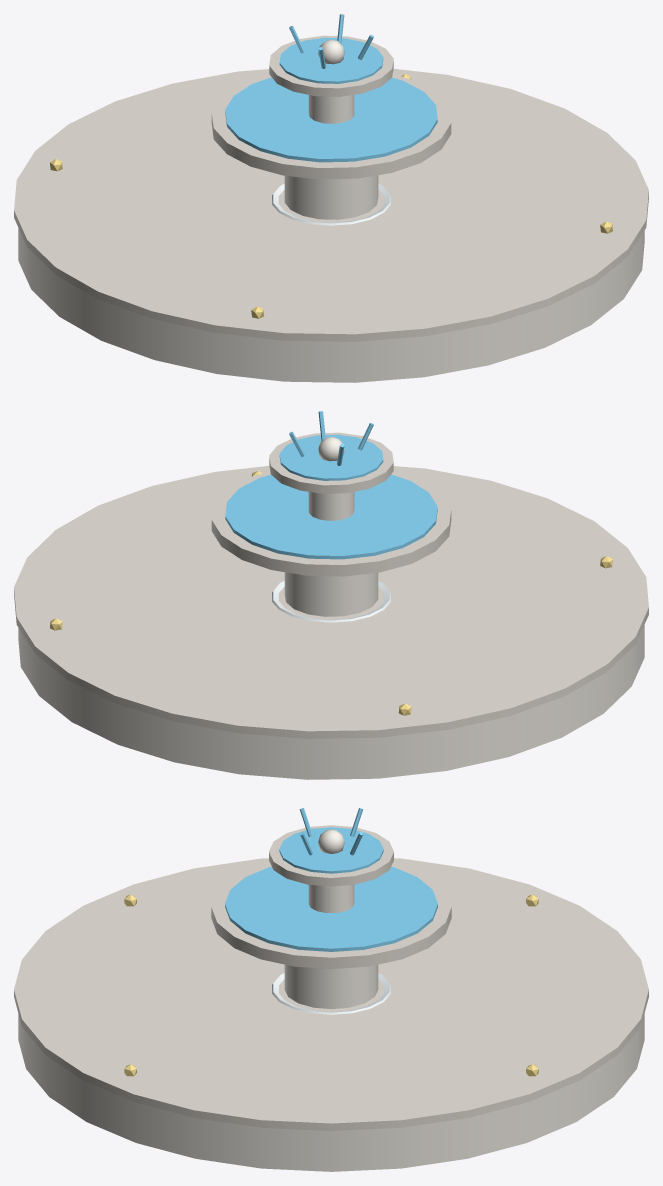
File: fountain_big.glb
3 renders of one model, top to bottom at view 1: azimuth 30°, elevation 25°; view 2: azimuth 150°, elevation 25°; view 3: azimuth 270°, elevation 25°, orthographic.
Parts seen in each view (by area): view 1: fountain_big; view 2: fountain_big; view 3: fountain_big.
Part boxes in pixels (x1,y1,x2,y2): fountain_big: (14, 14, 648, 382); fountain_big: (14, 411, 648, 779); fountain_big: (14, 808, 648, 1171).
Bounding box in the file's own units: 6.08 × 2.32 × 6.08.
